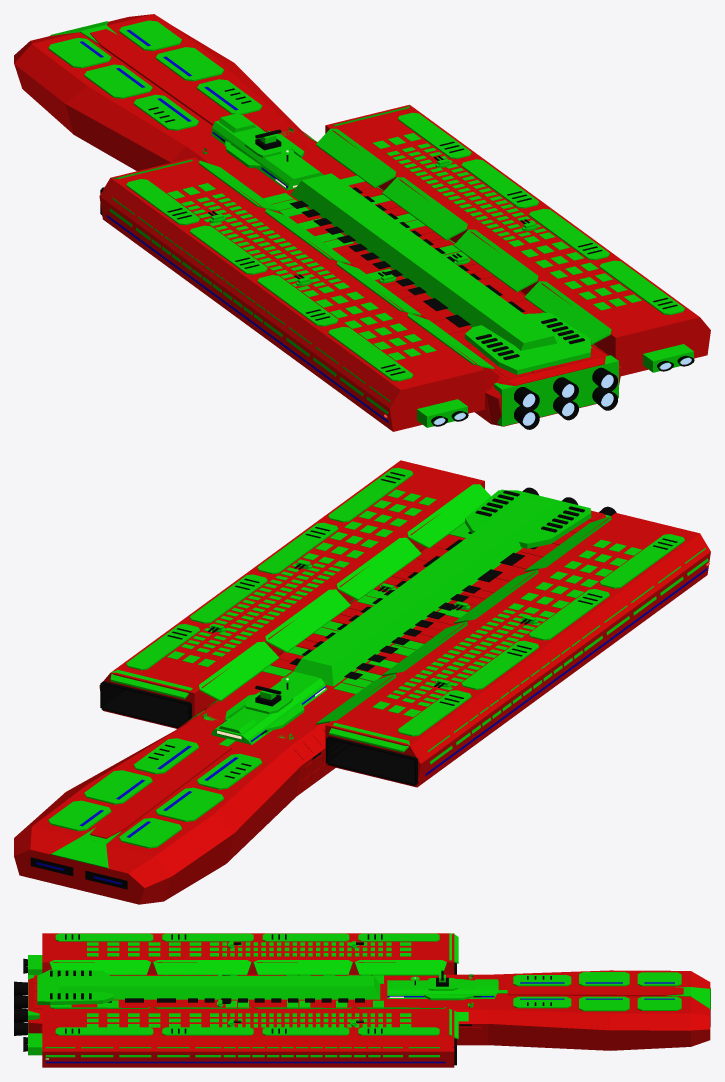
File: bastion.glb
3 renders of one model, top to bottom at view 1: azimuth 30°, elevation 25°; view 2: azimuth 150°, elevation 25°; view 3: azimuth 270°, elevation 25°, orthographic. The views are drawn at different scales.
Visible parts, largest first — view 1: exterior, bastion:refit_armor; view 2: exterior, bastion:refit_armor, room:bay-p, room:bay-s; view 3: exterior, bastion:refit_armor.
Boxes of the visible parts, <box> form: exterior: <box>14,14,710,431</box>; bastion:refit_armor: <box>48,20,684,381</box>; exterior: <box>14,460,710,904</box>; bastion:refit_armor: <box>30,467,684,889</box>; room:bay-p: <box>329,740,414,782</box>; room:bay-s: <box>103,685,188,725</box>; exterior: <box>14,933,710,1067</box>; bastion:refit_armor: <box>37,933,710,1065</box>.
Size of the model in its own units: 476 by 106 by 1251.
